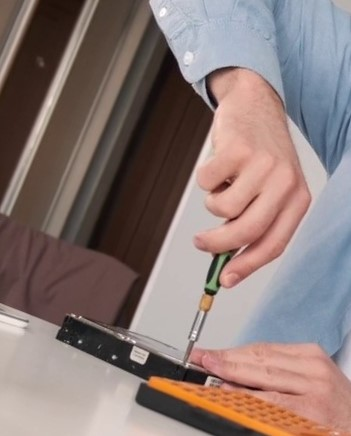screwdriver: (180, 183, 248, 371)
